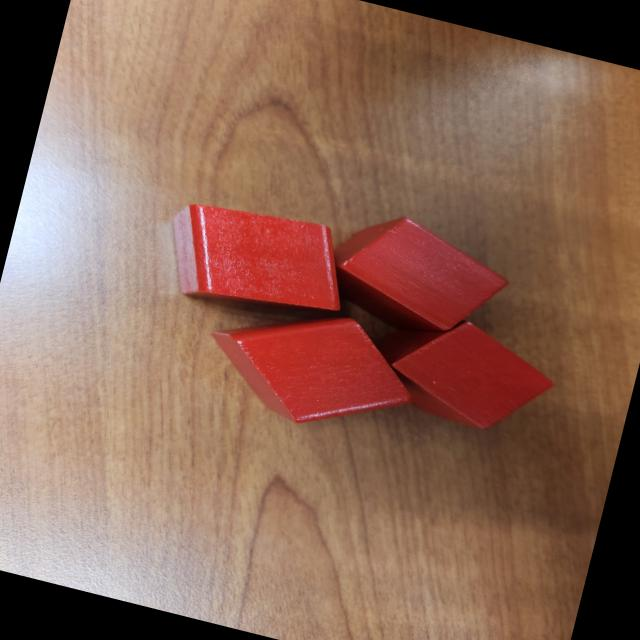red: (194, 284, 432, 450), (314, 200, 520, 352), (155, 189, 363, 337), (379, 306, 567, 448)
